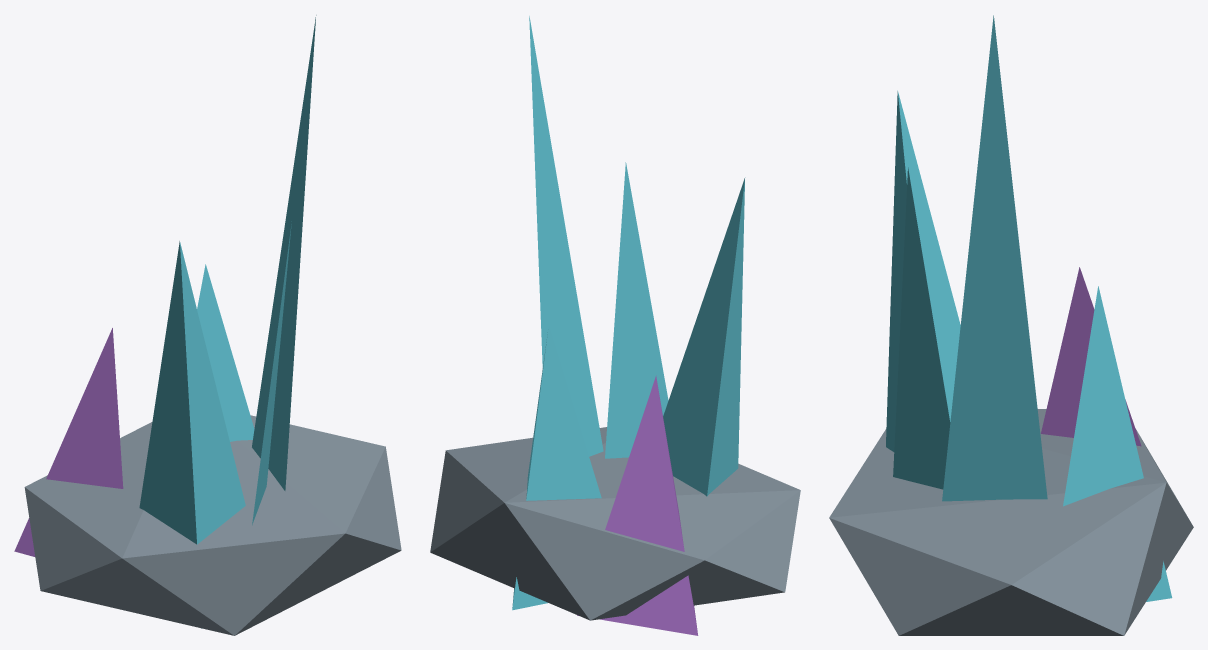
File: Crystal_01_LOD1.fbx
3 renders of one model, left to right at view 1: azimuth 30°, elevation 25°; view 2: azimuth 150°, elevation 25°; view 3: azimuth 270°, elevation 25°, orthographic. The views are drawn at different scales.
Visible parts, largest first — view 1: Crystal_01_LOD1; view 2: Crystal_01_LOD1; view 3: Crystal_01_LOD1.
Part boxes in pixels (x1,y1,x2,y2): Crystal_01_LOD1: [14, 15, 401, 635]; Crystal_01_LOD1: [430, 16, 800, 635]; Crystal_01_LOD1: [829, 15, 1193, 635].
Bounding box in the file's own units: 161 × 242 × 128.
